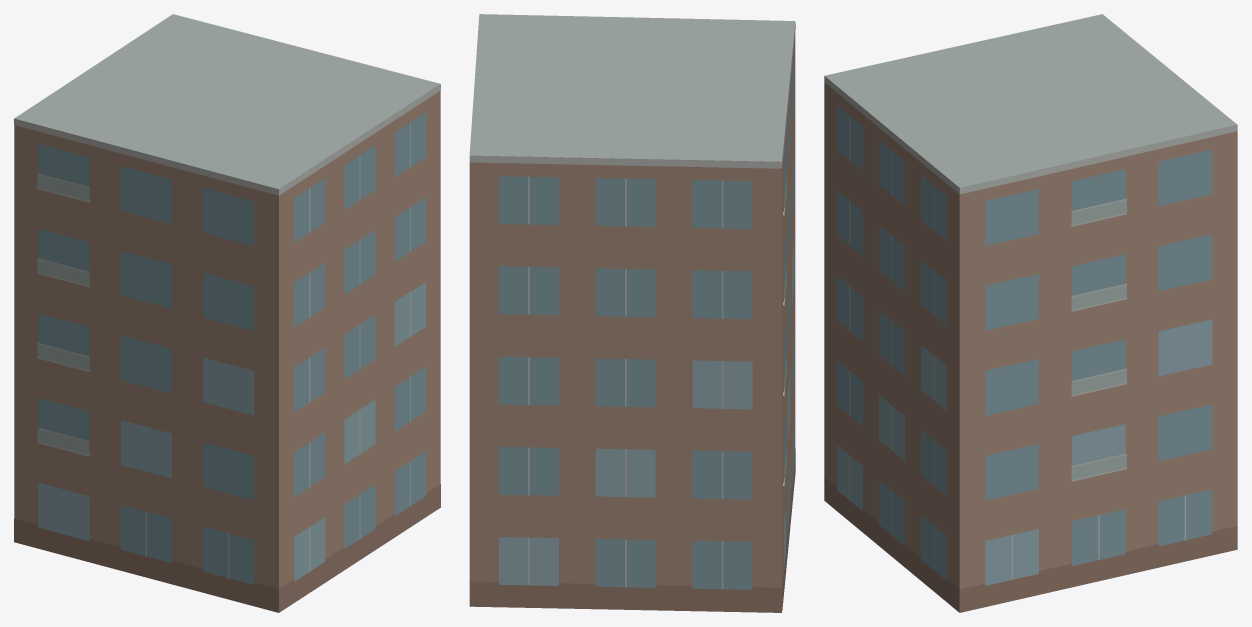
File: survey-upis-32836154.glb
3 views of the same model, side by side, from view 1: azimuth 30°, elevation 25°; view 2: azimuth 150°, elevation 25°; view 3: azimuth 270°, elevation 25° (orthographic). The views are drawn at different scales.
Parts seen in each view (by area): view 1: survey-upis-32836154.tmp; view 2: survey-upis-32836154.tmp; view 3: survey-upis-32836154.tmp.
Boxes of the visible parts, box(x1,y1,x2,y2) form: survey-upis-32836154.tmp: box(14, 14, 440, 612); survey-upis-32836154.tmp: box(469, 14, 795, 612); survey-upis-32836154.tmp: box(824, 14, 1237, 612).
Bounding box in the file's own units: 13.97 × 15.9 × 14.02.
